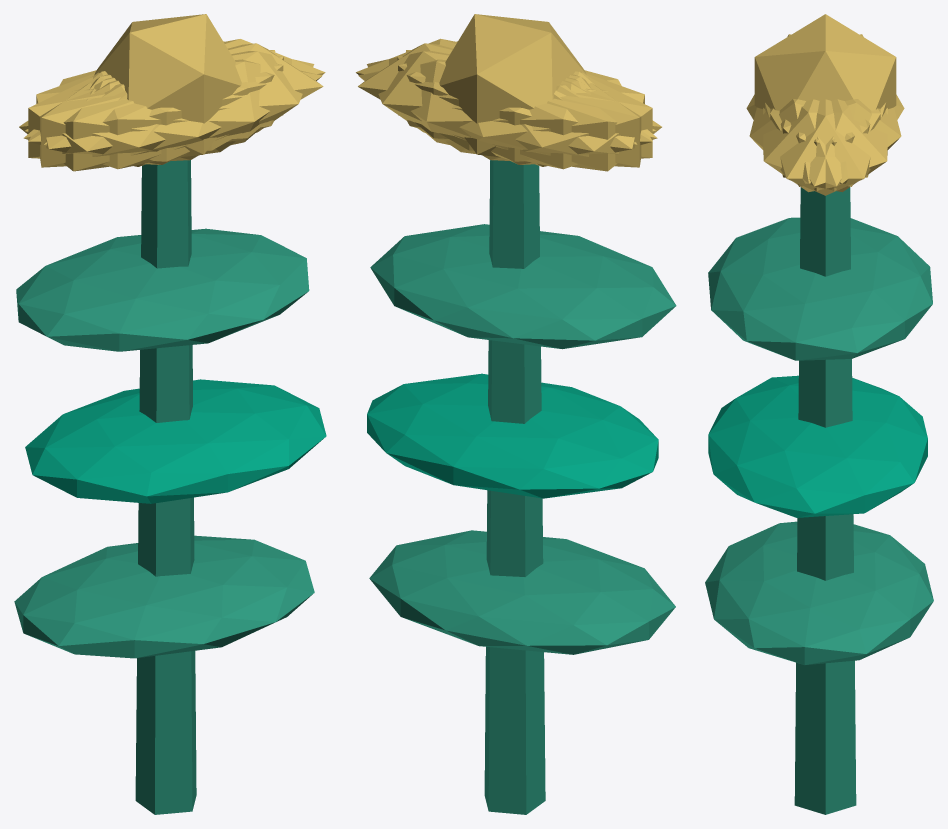
The model's file is schizolobium-parahyba.glb.
3 views of the same model, side by side, from view 1: azimuth 30°, elevation 25°; view 2: azimuth 150°, elevation 25°; view 3: azimuth 270°, elevation 25° (orthographic).
Parts seen in each view (by area): view 1: leaf1, leaf2, leaf0, stem, center, petal1, petal6, petal2, petal5, petal7, petal0, petal4 (+2 smaller); view 2: leaf2, leaf0, leaf1, stem, center, petal8, petal3, petal7, petal4, petal2, petal0, petal5 (+2 smaller); view 3: leaf2, leaf1, leaf0, stem, center, petal0, petal5, petal4, petal1, petal8.
Part boxes in pixels (<box>): leaf1: <box>25,379,326,503</box>; leaf2: <box>16,228,309,351</box>; leaf0: <box>14,535,314,658</box>; stem: <box>135,160,196,814</box>; center: <box>94,14,241,156</box>; petal1: <box>23,59,322,169</box>; petal6: <box>19,72,235,171</box>; petal2: <box>40,50,275,167</box>; petal5: <box>44,51,314,161</box>; petal7: <box>28,56,283,164</box>; petal0: <box>94,43,323,151</box>; petal4: <box>25,39,325,141</box>; leaf2: <box>370,224,676,349</box>; leaf0: <box>369,530,675,654</box>; leaf1: <box>367,373,658,498</box>; stem: <box>484,160,545,814</box>; center: <box>439,14,586,156</box>; petal8: <box>358,59,657,169</box>; petal3: <box>446,72,661,171</box>; petal7: <box>406,50,641,167</box>; petal4: <box>367,51,637,161</box>; petal2: <box>397,56,652,164</box>; petal0: <box>358,43,586,151</box>; petal5: <box>356,38,655,141</box>; leaf2: <box>708,217,932,360</box>; leaf1: <box>708,375,927,517</box>; leaf0: <box>705,521,933,664</box>; stem: <box>794,187,856,814</box>; center: <box>754,14,896,110</box>; petal0: <box>765,99,886,195</box>; petal5: <box>763,99,880,192</box>; petal4: <box>770,99,887,192</box>; petal1: <box>749,99,870,183</box>; petal8: <box>780,99,901,183</box>.
Bounding box in the file's own units: 0.1452 × 0.3671 × 0.0991.
